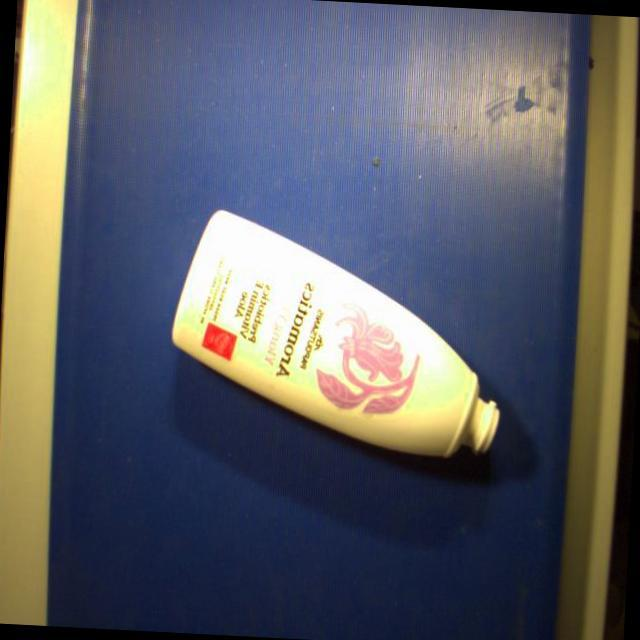HDPE Plastic: (167, 204, 505, 468)
